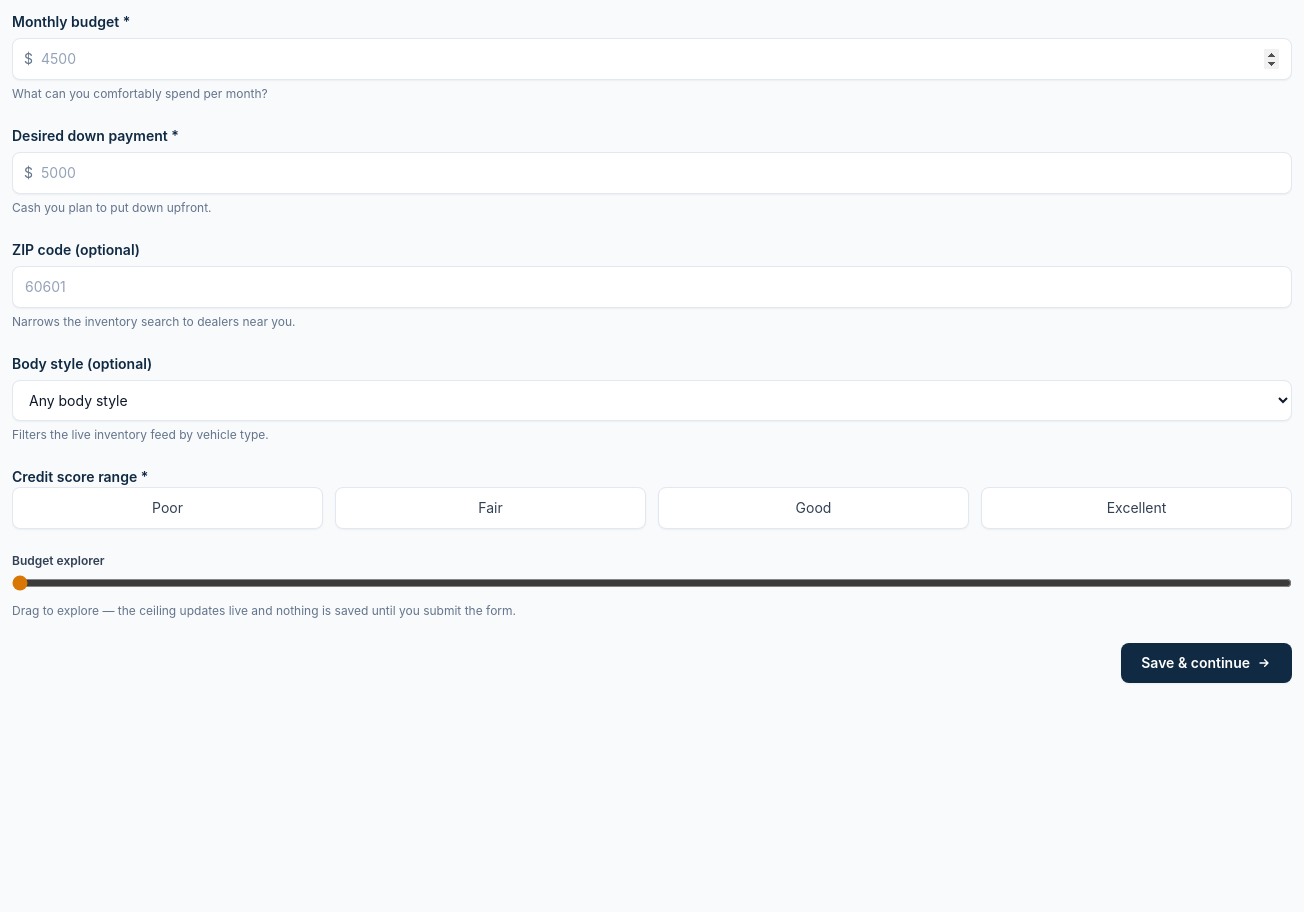
Test case: IntakeForm › rejects monthly budget of zero
Type "0" into the number field labelled "Monthly budget *" at [652, 59], box [12,38,1292,80]
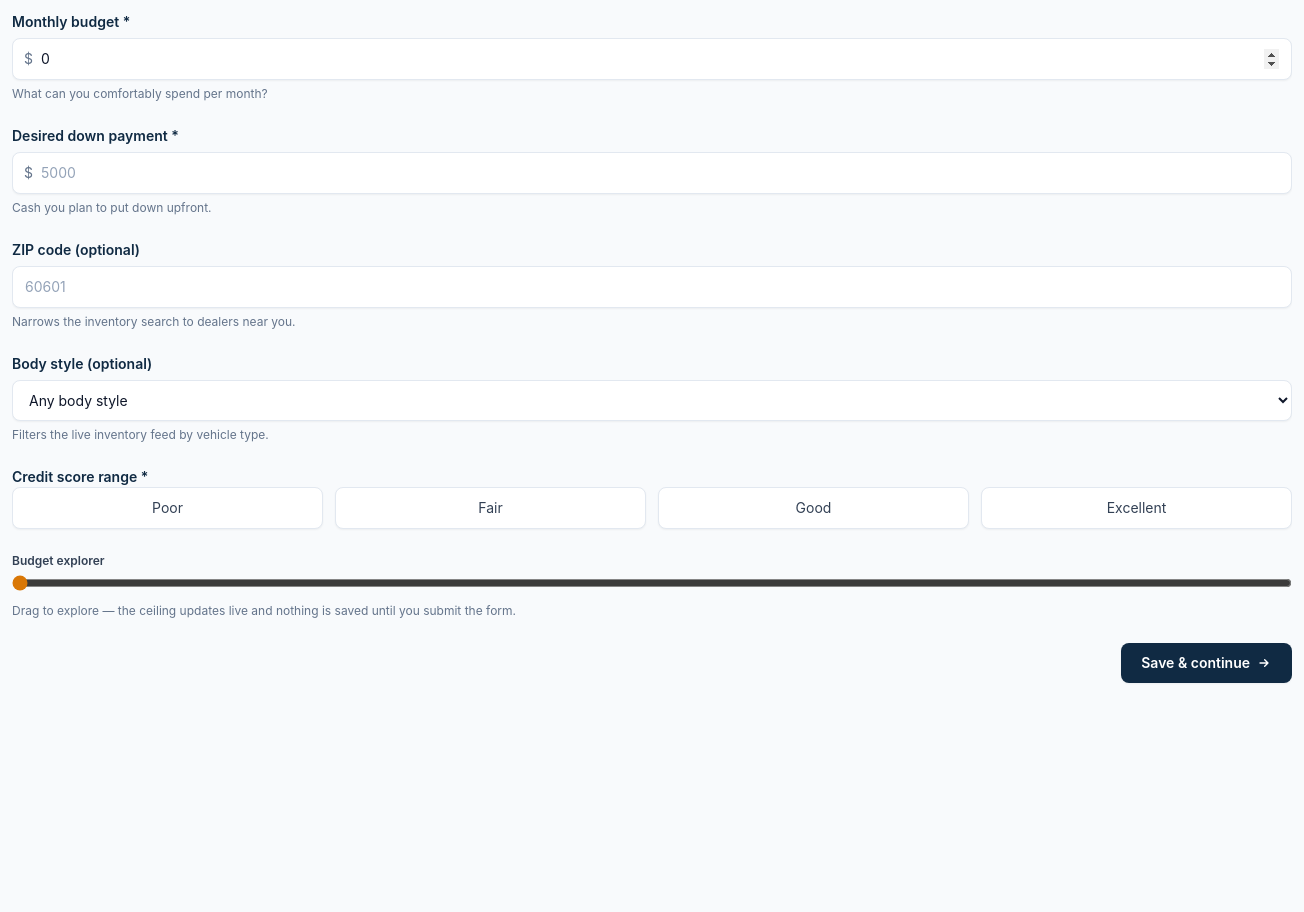
Type "1000" into the number field labelled "Desired down payment *" at [652, 173], box [12,152,1292,194]
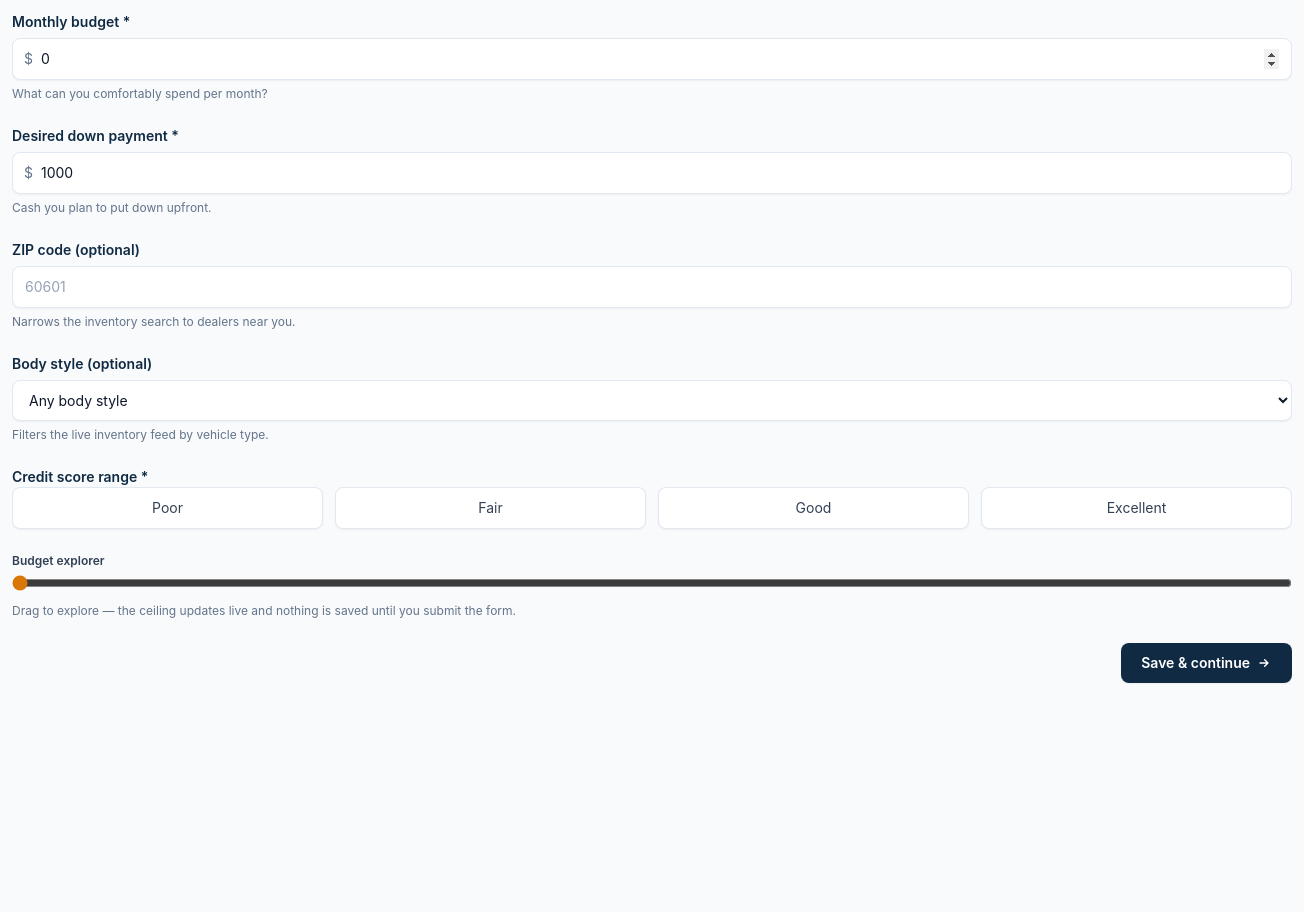
Click the radio button labelled "Good" at [814, 508], box [658,487,969,529]
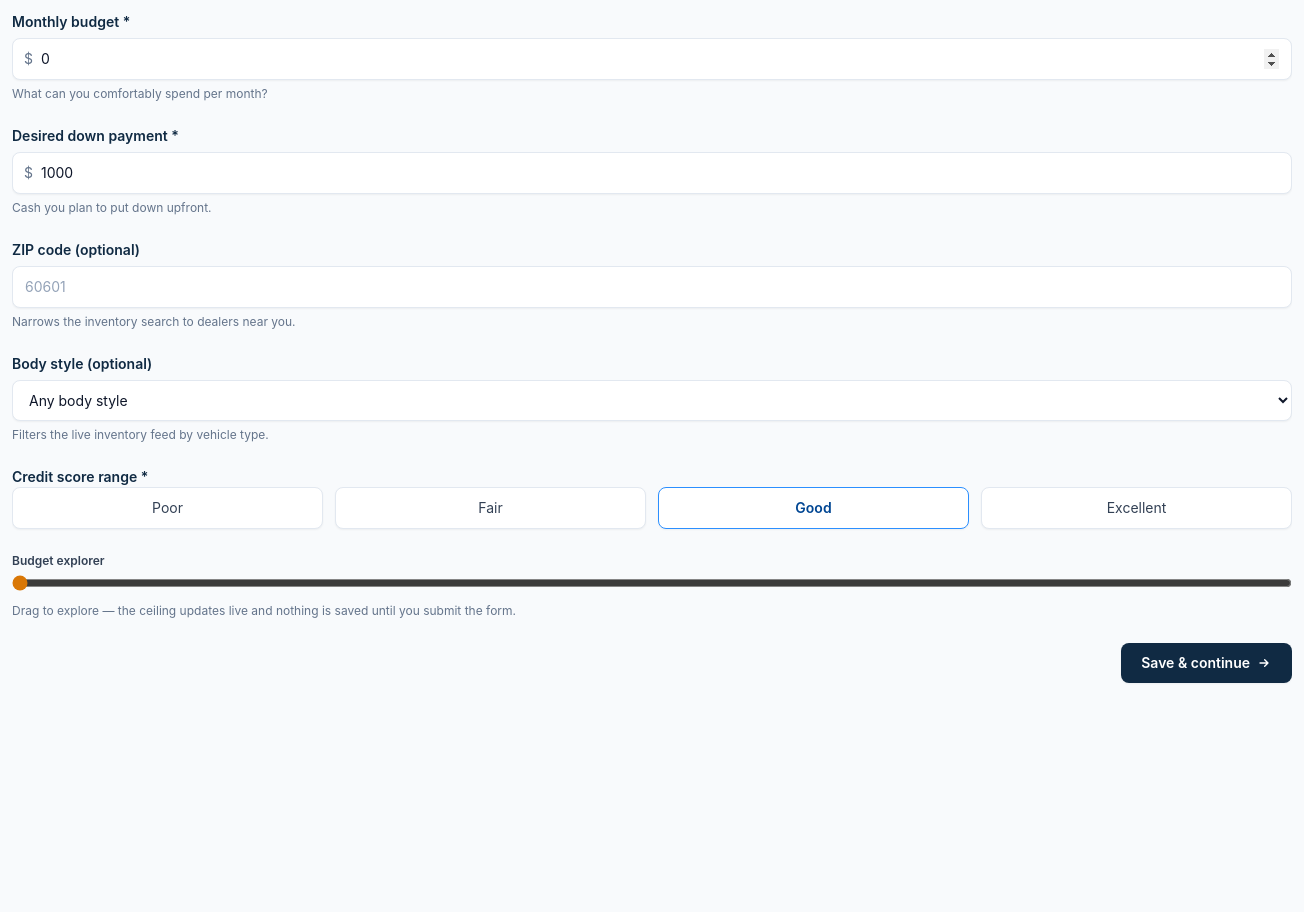
Click the button "Save & continue" at [1207, 663], box [1121,643,1292,683]
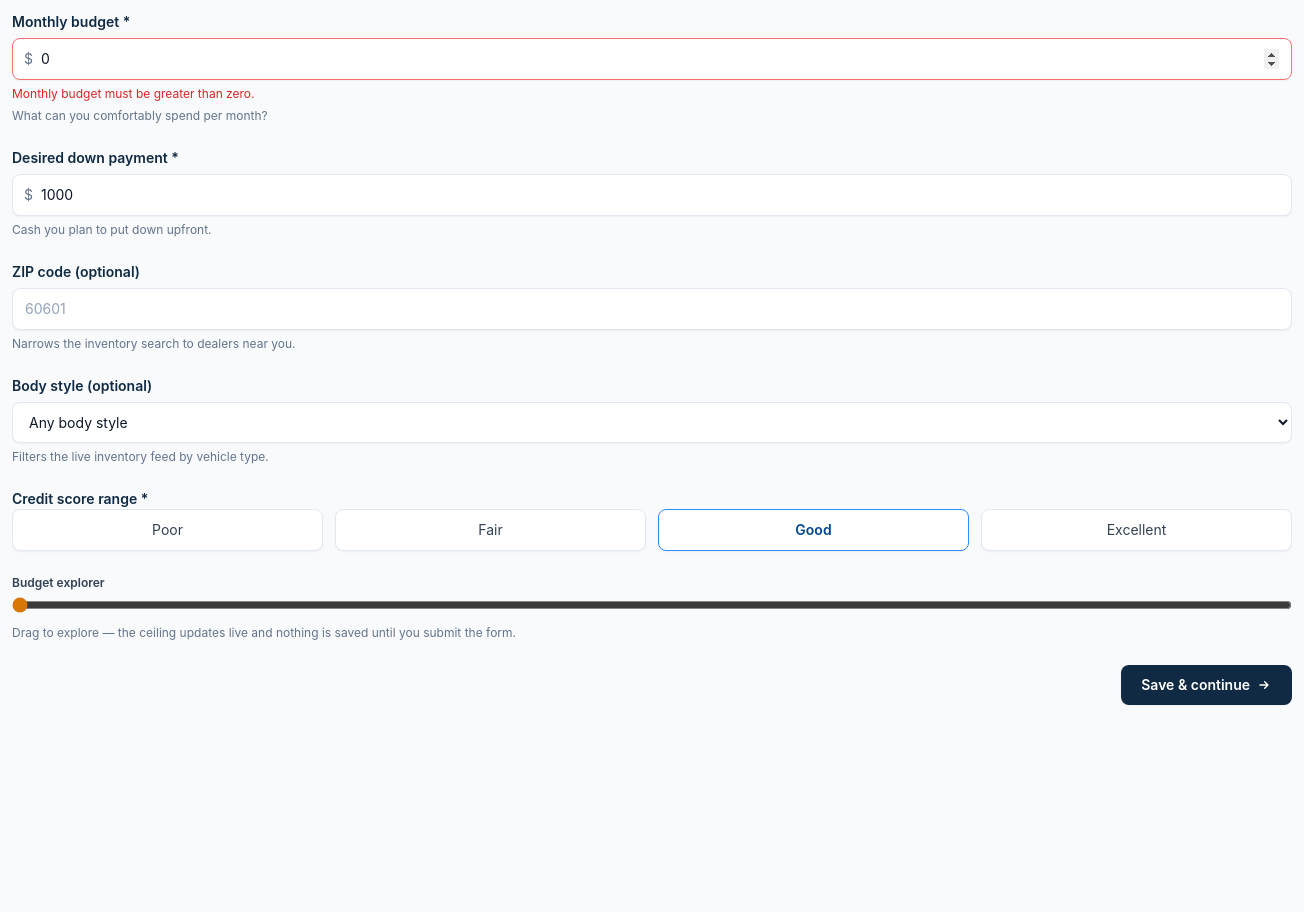
Result: the text "Monthly budget must be greater than zero." is shown at [12,86,254,101]
